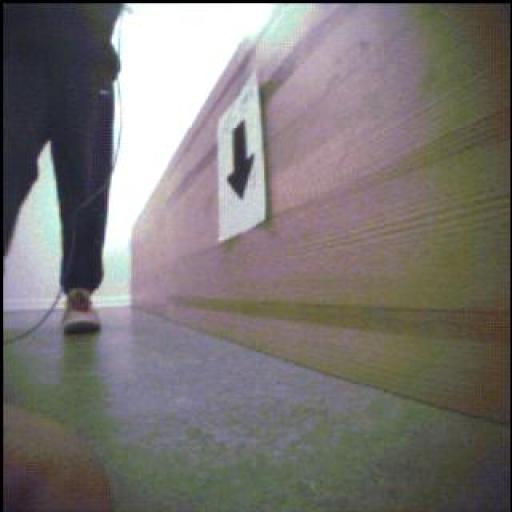arrow: (229, 123, 256, 200)
